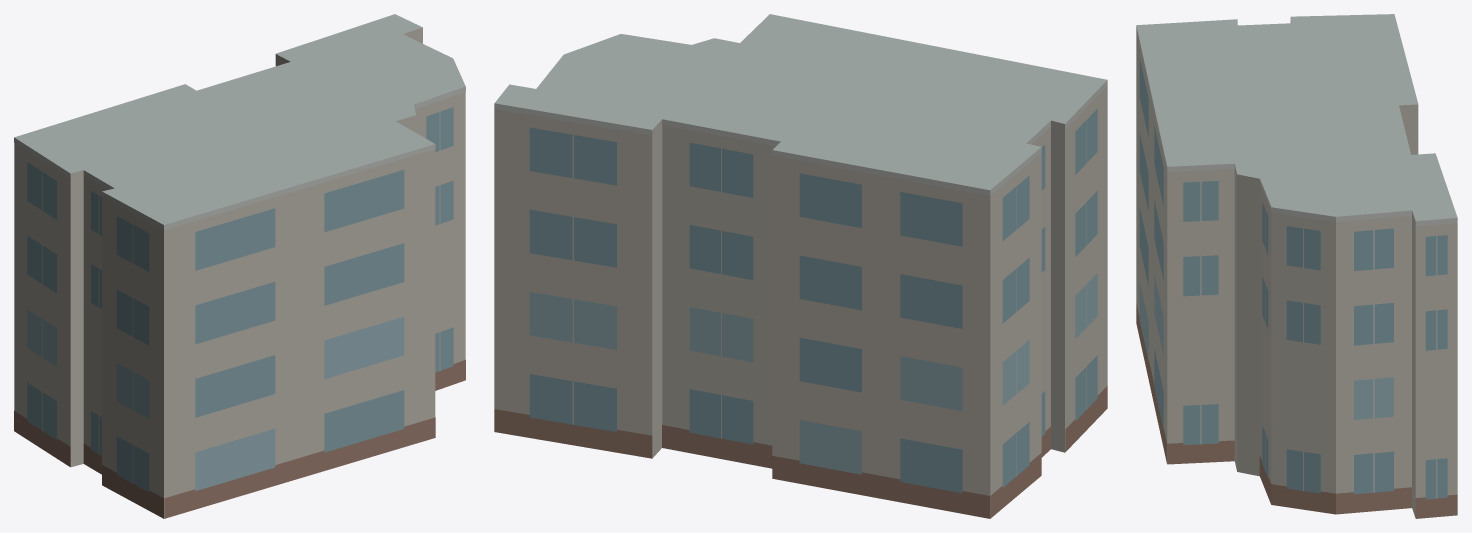
Rendered from survey-upis-33015182.glb.
3 views of the same model, side by side, from view 1: azimuth 30°, elevation 25°; view 2: azimuth 150°, elevation 25°; view 3: azimuth 270°, elevation 25° (orthographic). The views are drawn at different scales.
Parts seen in each view (by area): view 1: survey-upis-33015182.tmp; view 2: survey-upis-33015182.tmp; view 3: survey-upis-33015182.tmp.
Part boxes in pixels (left/top/right/bottom): survey-upis-33015182.tmp: left=14, top=14, right=465, bottom=518; survey-upis-33015182.tmp: left=494, top=14, right=1107, bottom=518; survey-upis-33015182.tmp: left=1136, top=14, right=1457, bottom=518.
Bounding box in the file's own units: 21 × 14.05 × 13.76.
